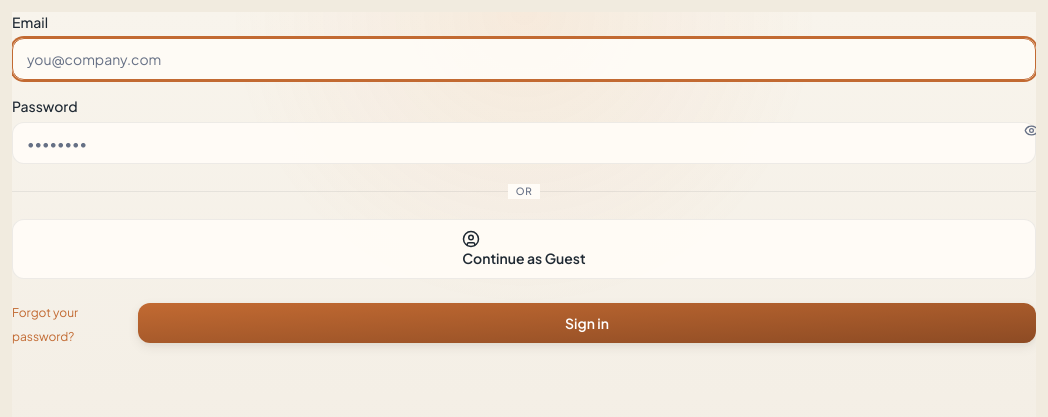
Test case: LoginForm › shows an error when login fails
In the field labelled "Email": (524, 59) top-left (12, 38), bottom-right (1036, 80), type "test@example.com"
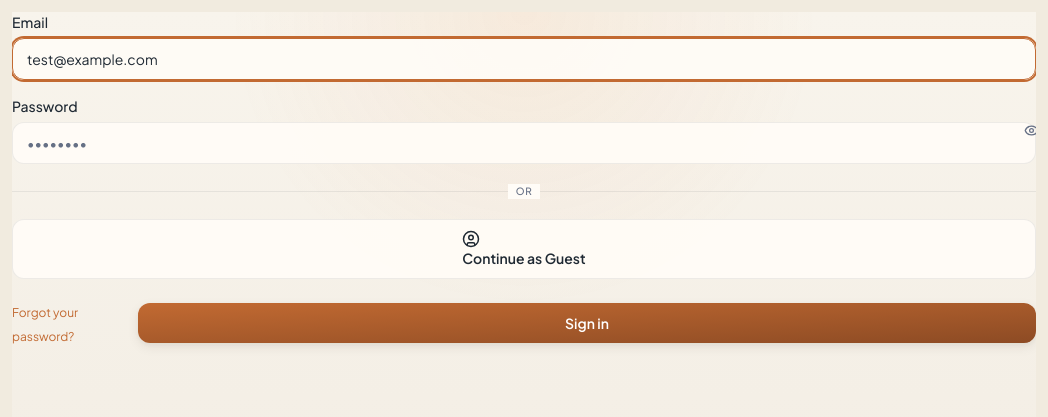
In the password field labelled "Password": (524, 143) top-left (12, 122), bottom-right (1036, 164), type "password123"
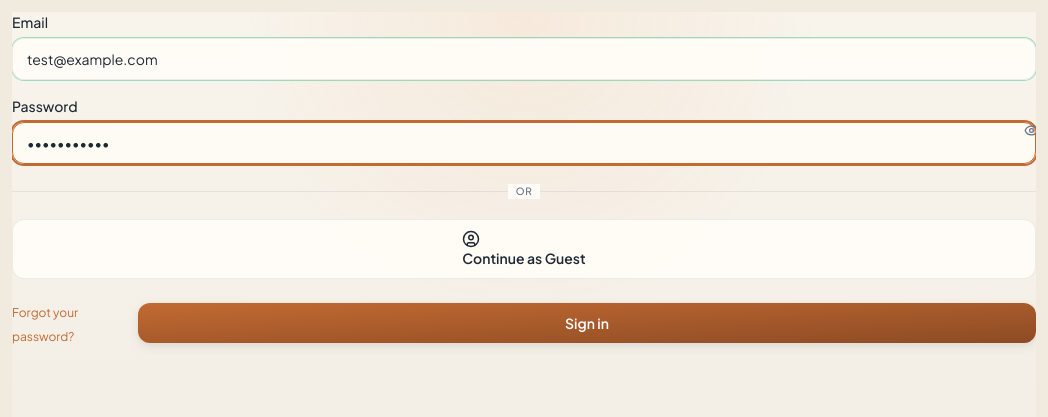
Click the button "Sign in": (587, 323) top-left (138, 303), bottom-right (1036, 343)
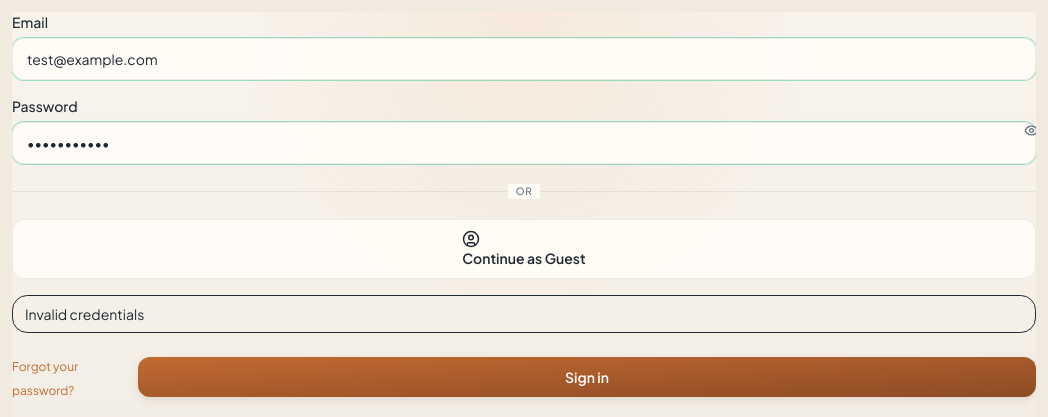
Expected: the message reads "Invalid credentials", top-left (25, 305), bottom-right (144, 323)
